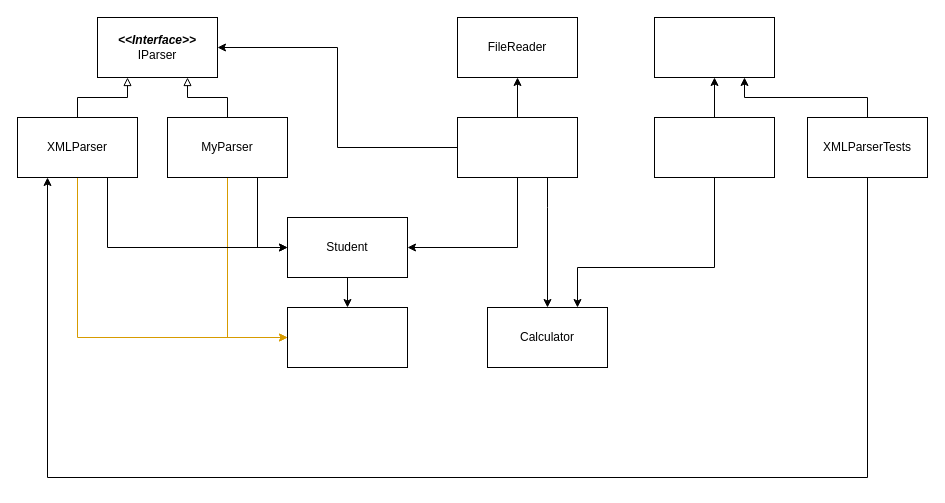
The diagram is 945 pixels wide and 503 high, and some of its shapes have lost their labels. The centre of each missing label's shape, as x and y in pixels:
"CalculatorTests" belongs at pixel 714 147.
"EducationalSubject" belongs at pixel 347 337.
"Main" belongs at pixel 517 147.
"Usings" belongs at pixel 714 47.
